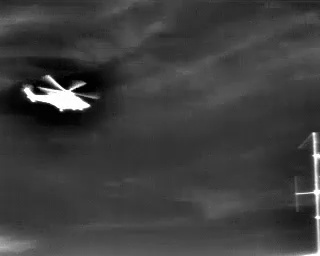HELICOPTER: (21, 70, 103, 119)
